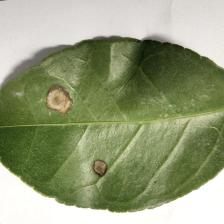canker: (37, 68, 135, 181)
